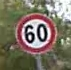limite 60: (13, 12, 56, 54)
